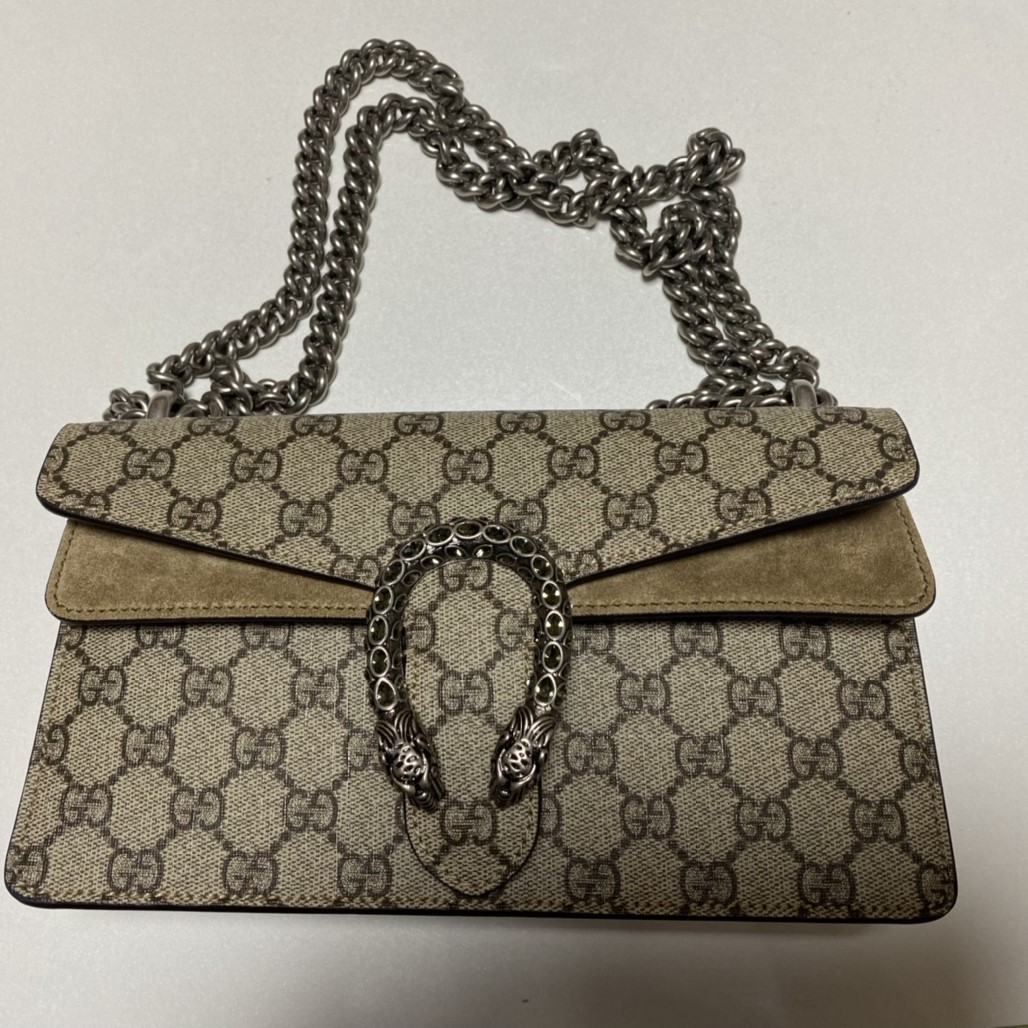Gucci: (43, 345, 990, 983), (587, 640, 947, 889)
